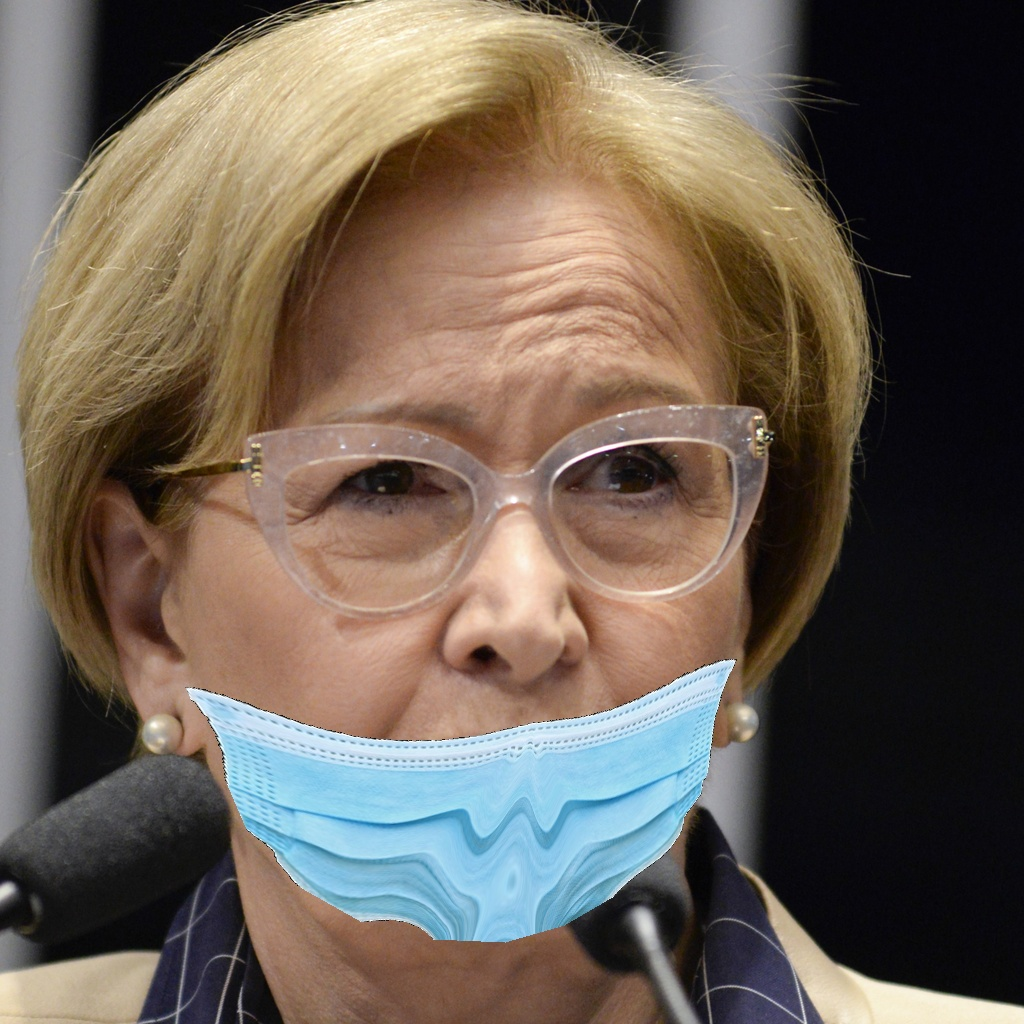mask_weared_incorrect: (161, 372, 750, 964)
